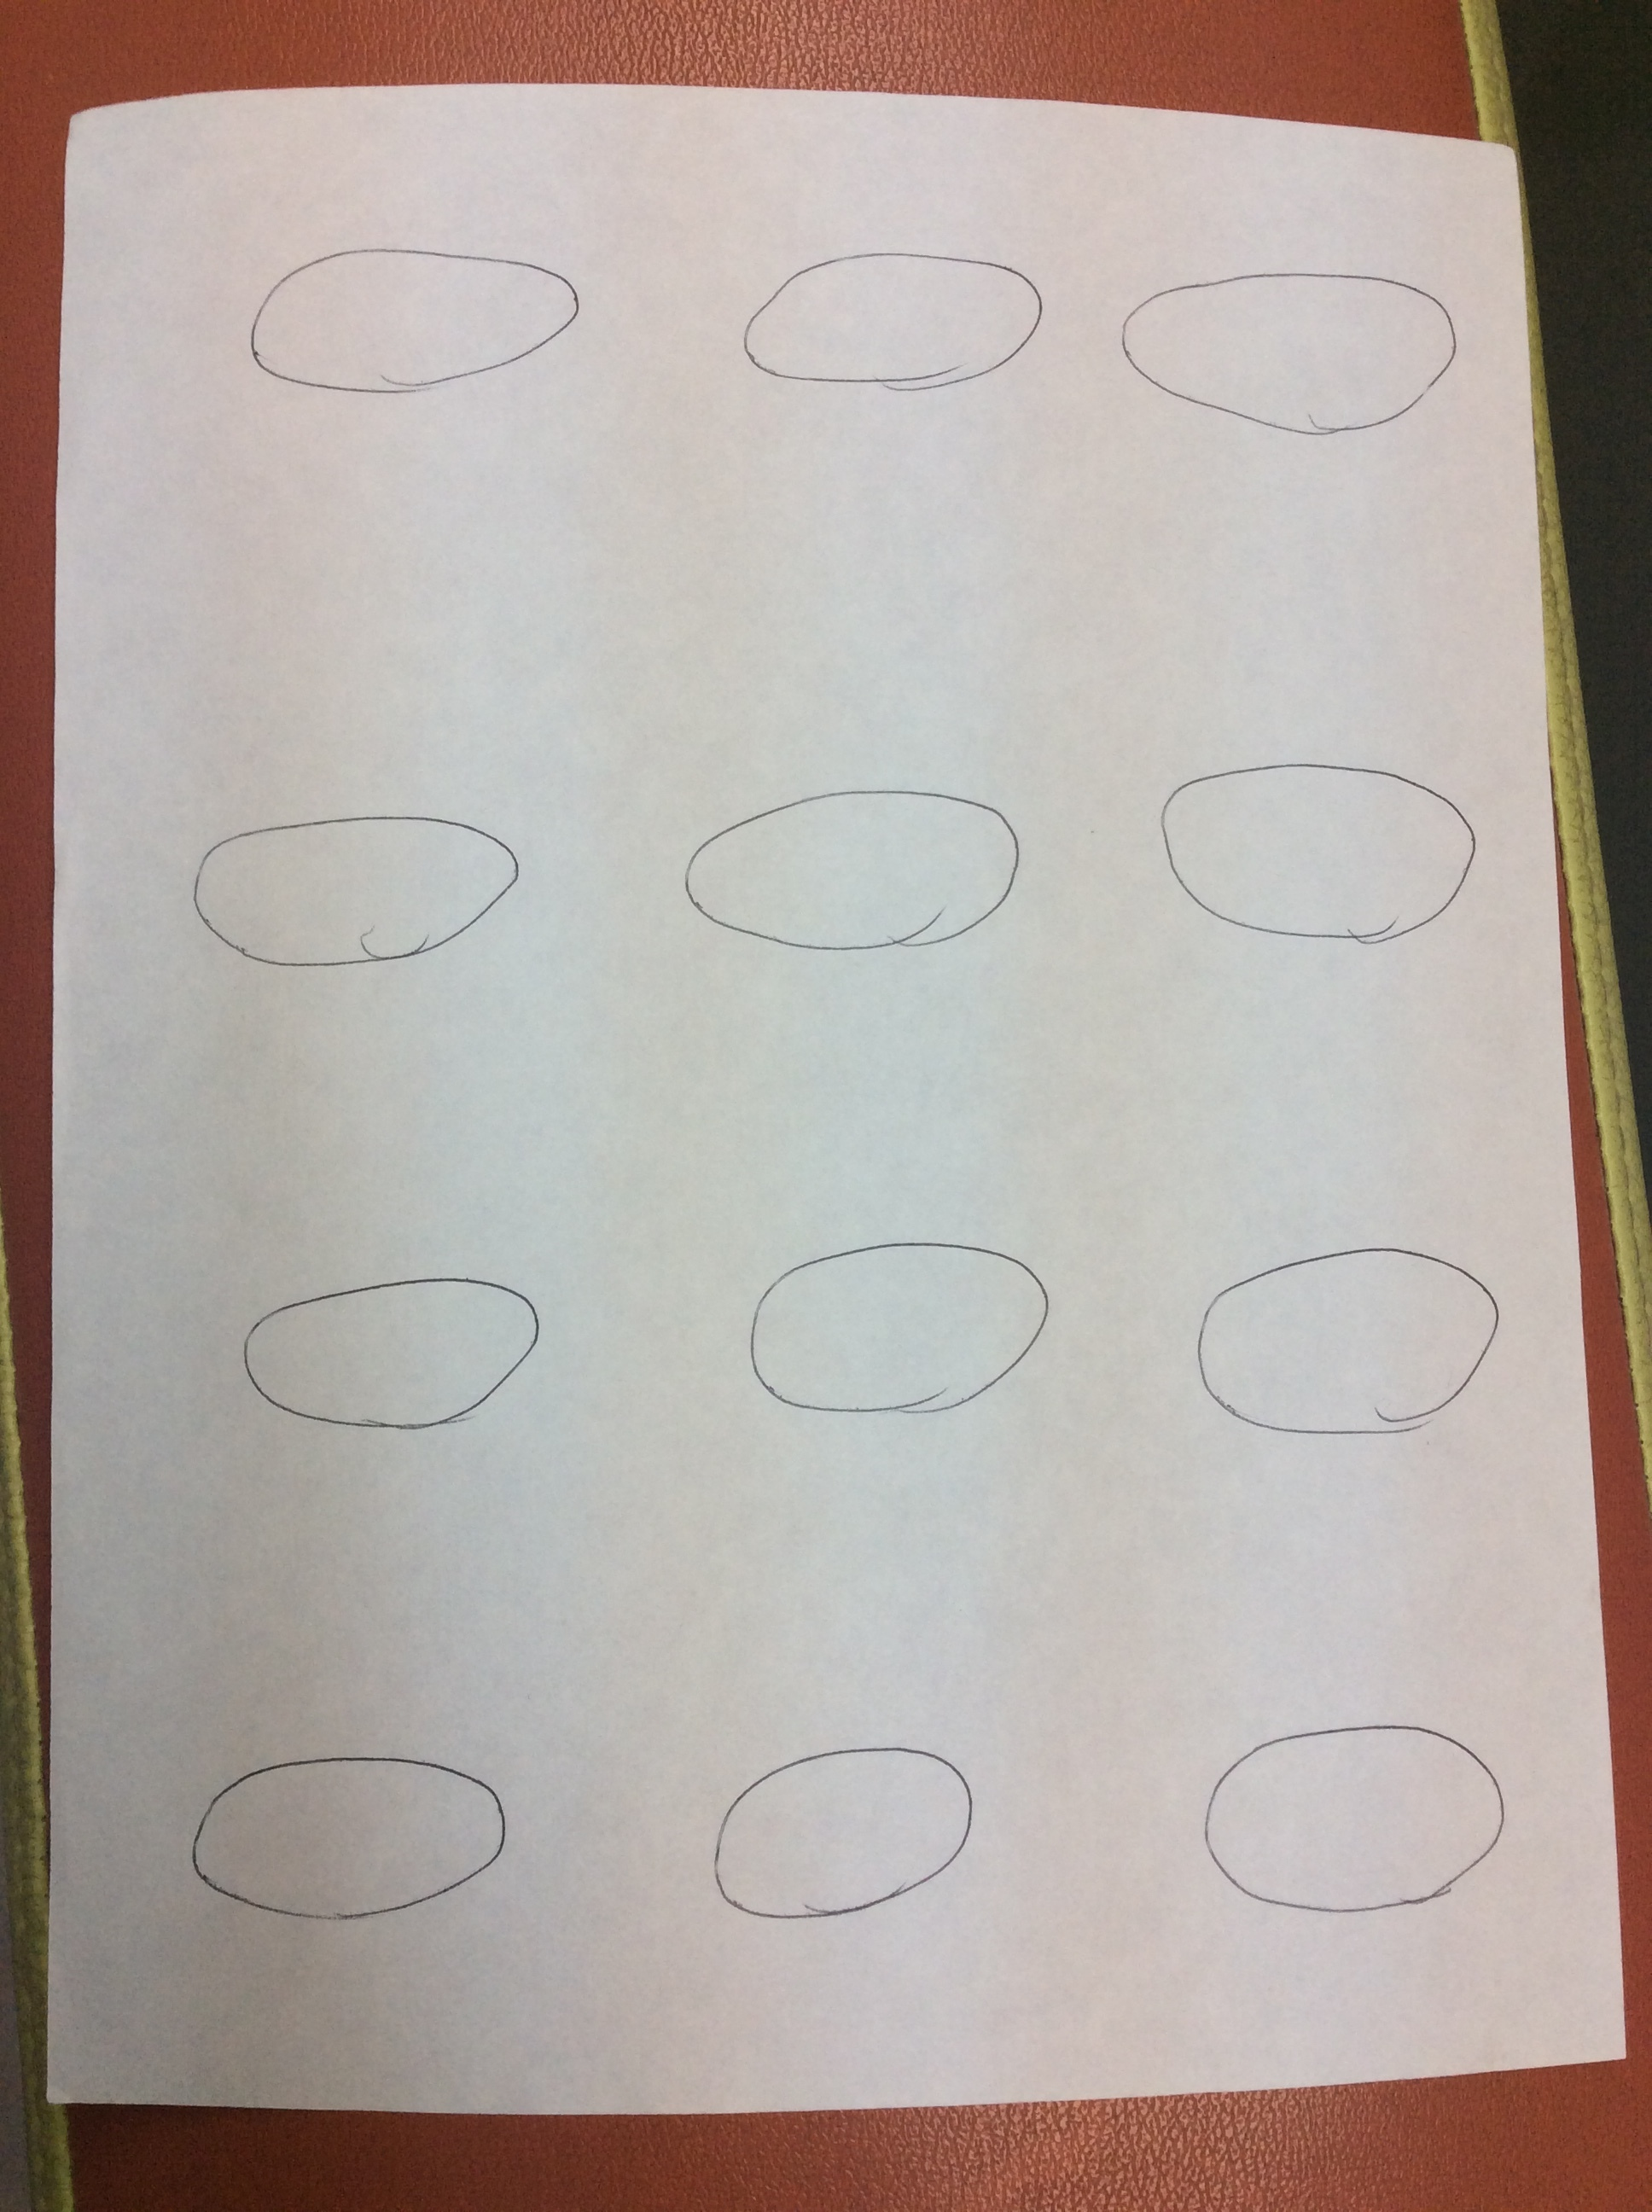start_end: (1152, 1683, 1524, 1955), (640, 737, 1046, 984), (1114, 727, 1506, 970), (1093, 222, 1477, 461), (1156, 1228, 1534, 1468), (146, 776, 545, 1001), (701, 1209, 1074, 1447), (154, 1718, 517, 1955), (217, 201, 599, 427), (668, 1711, 1005, 1952), (203, 1249, 566, 1457), (729, 243, 1060, 420)
